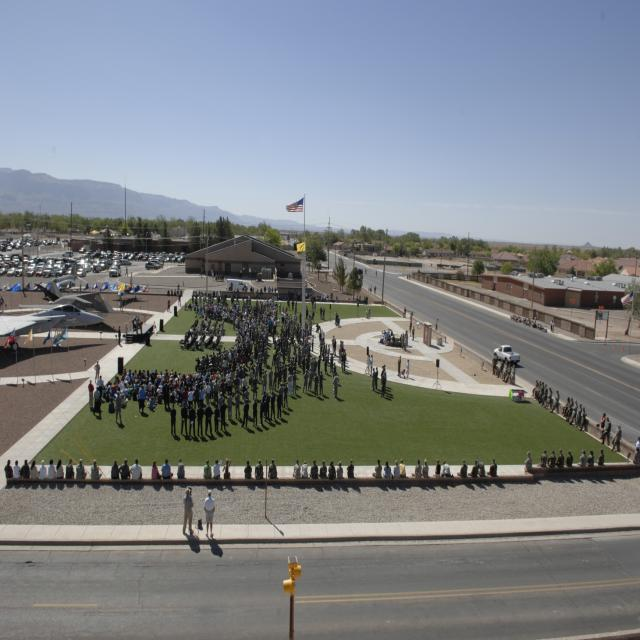MIL_Plane: (0, 304, 105, 352), (78, 282, 162, 326), (40, 262, 88, 297)
